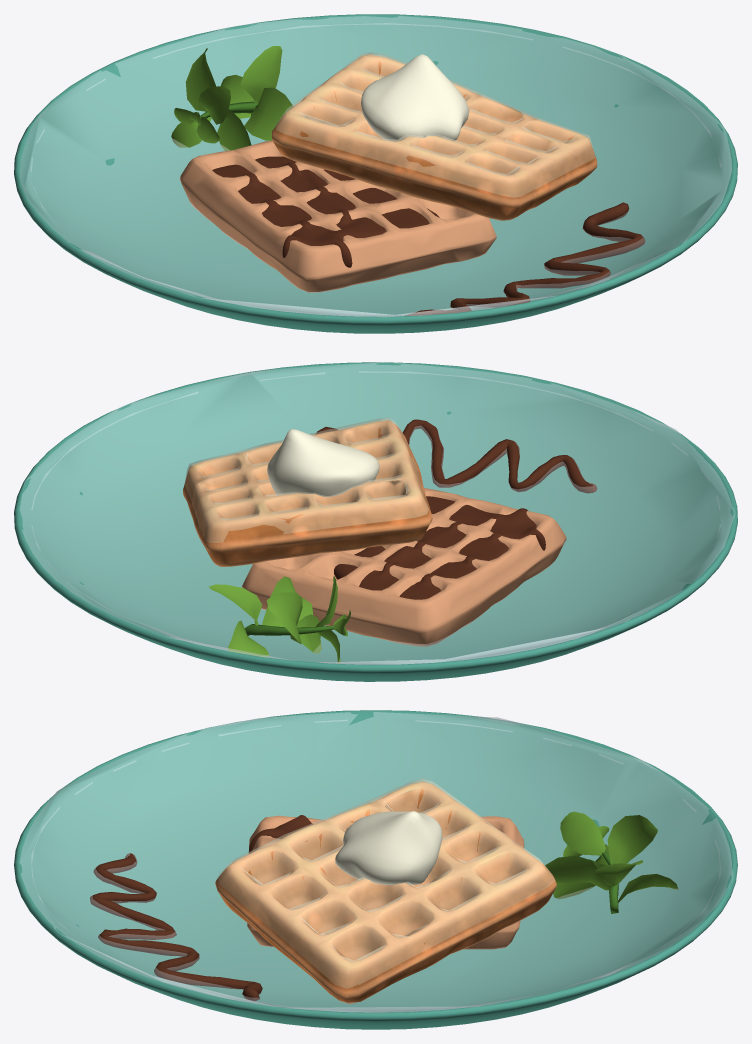
The model's file is waffle.fbx.
3 renders of one model, top to bottom at view 1: azimuth 30°, elevation 25°; view 2: azimuth 150°, elevation 25°; view 3: azimuth 270°, elevation 25°, orthographic.
Visible parts, largest first — view 1: Circle, Circle.002, waffle2, waffle1, waffle2.002, Cube.007, Cube, Cube.001, BezierCurve; view 2: Circle, Circle.002, waffle2, waffle1, waffle2.002, Cube, Cube.007, Cube.001, BezierCurve; view 3: Circle, Circle.002, waffle2, waffle2.002, Cube.007, Cube.001, BezierCurve, waffle1, Cube.
Part boxes in pixels (x1,y1,x2,y2): Circle: (14,14,737,333); Circle.002: (20,16,731,316); waffle2: (271,54,597,220); waffle1: (180,140,496,292); waffle2.002: (276,52,594,197); Cube.007: (171,46,293,151); Cube: (212,156,439,267); Cube.001: (361,54,469,141); BezierCurve: (405,202,645,315); Circle: (14,362,737,681); Circle.002: (20,362,734,664); waffle2: (183,420,432,566); waffle1: (242,488,566,646); waffle2.002: (185,417,428,542); Cube: (334,496,545,599); Cube.007: (209,576,350,663); Cube.001: (267,429,379,496); BezierCurve: (315,419,597,493); Circle: (14,710,737,1029); Circle.002: (20,712,732,1012); waffle2: (215,781,556,1004); waffle2.002: (217,778,554,988); Cube.007: (545,811,678,913); Cube.001: (335,811,442,885); BezierCurve: (90,853,262,1001); waffle1: (247,815,524,949); Cube: (249,815,313,852).
Size of the model in its own units: 726 by 181 by 726.
